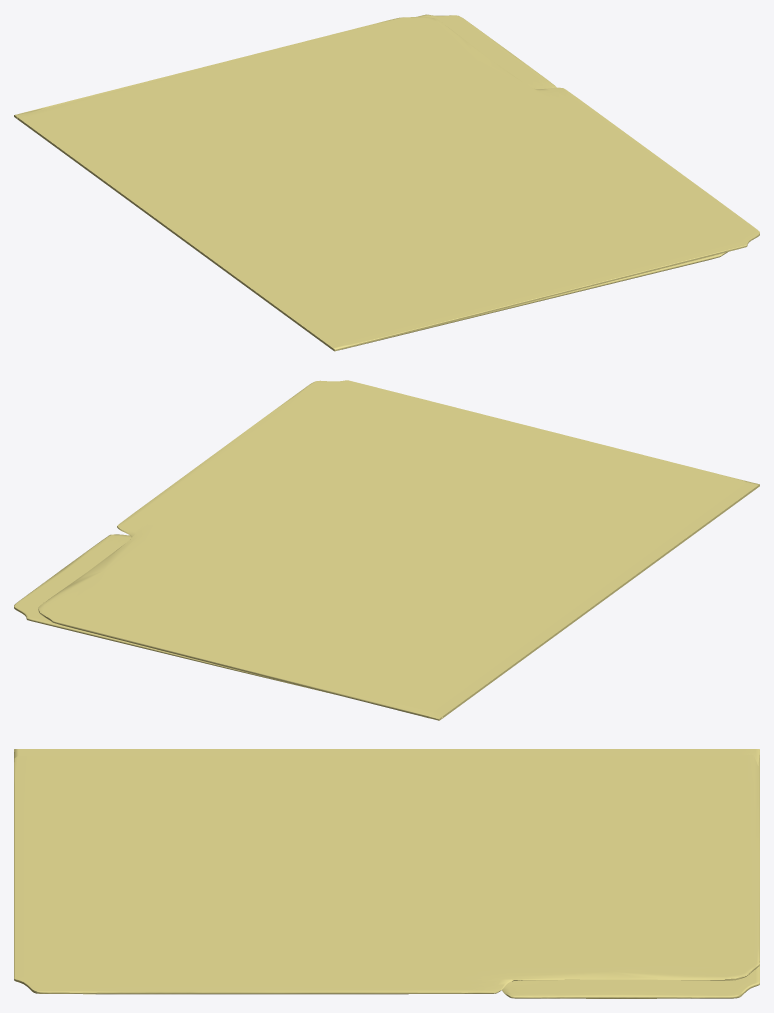
File: uploads_files_2783953_Manilla+Folder+R00.fbx
3 renders of one model, top to bottom at view 1: azimuth 30°, elevation 25°; view 2: azimuth 150°, elevation 25°; view 3: azimuth 270°, elevation 25°, orthographic. The views are drawn at different scales.
Visible parts, largest first — view 1: Left Side.001, Right Side.001; view 2: Left Side.001, Right Side.001; view 3: Left Side.001, Right Side.001.
Boxes of the visible parts, left/top/right/bottom form: Left Side.001: left=17, top=17, right=759, bottom=351; Right Side.001: left=14, top=14, right=727, bottom=351; Left Side.001: left=38, top=380, right=759, bottom=720; Right Side.001: left=14, top=480, right=759, bottom=720; Left Side.001: left=14, top=749, right=759, bottom=994; Right Side.001: left=14, top=749, right=759, bottom=998.
Size of the model in its own units: 243 by 3.22 by 309.
